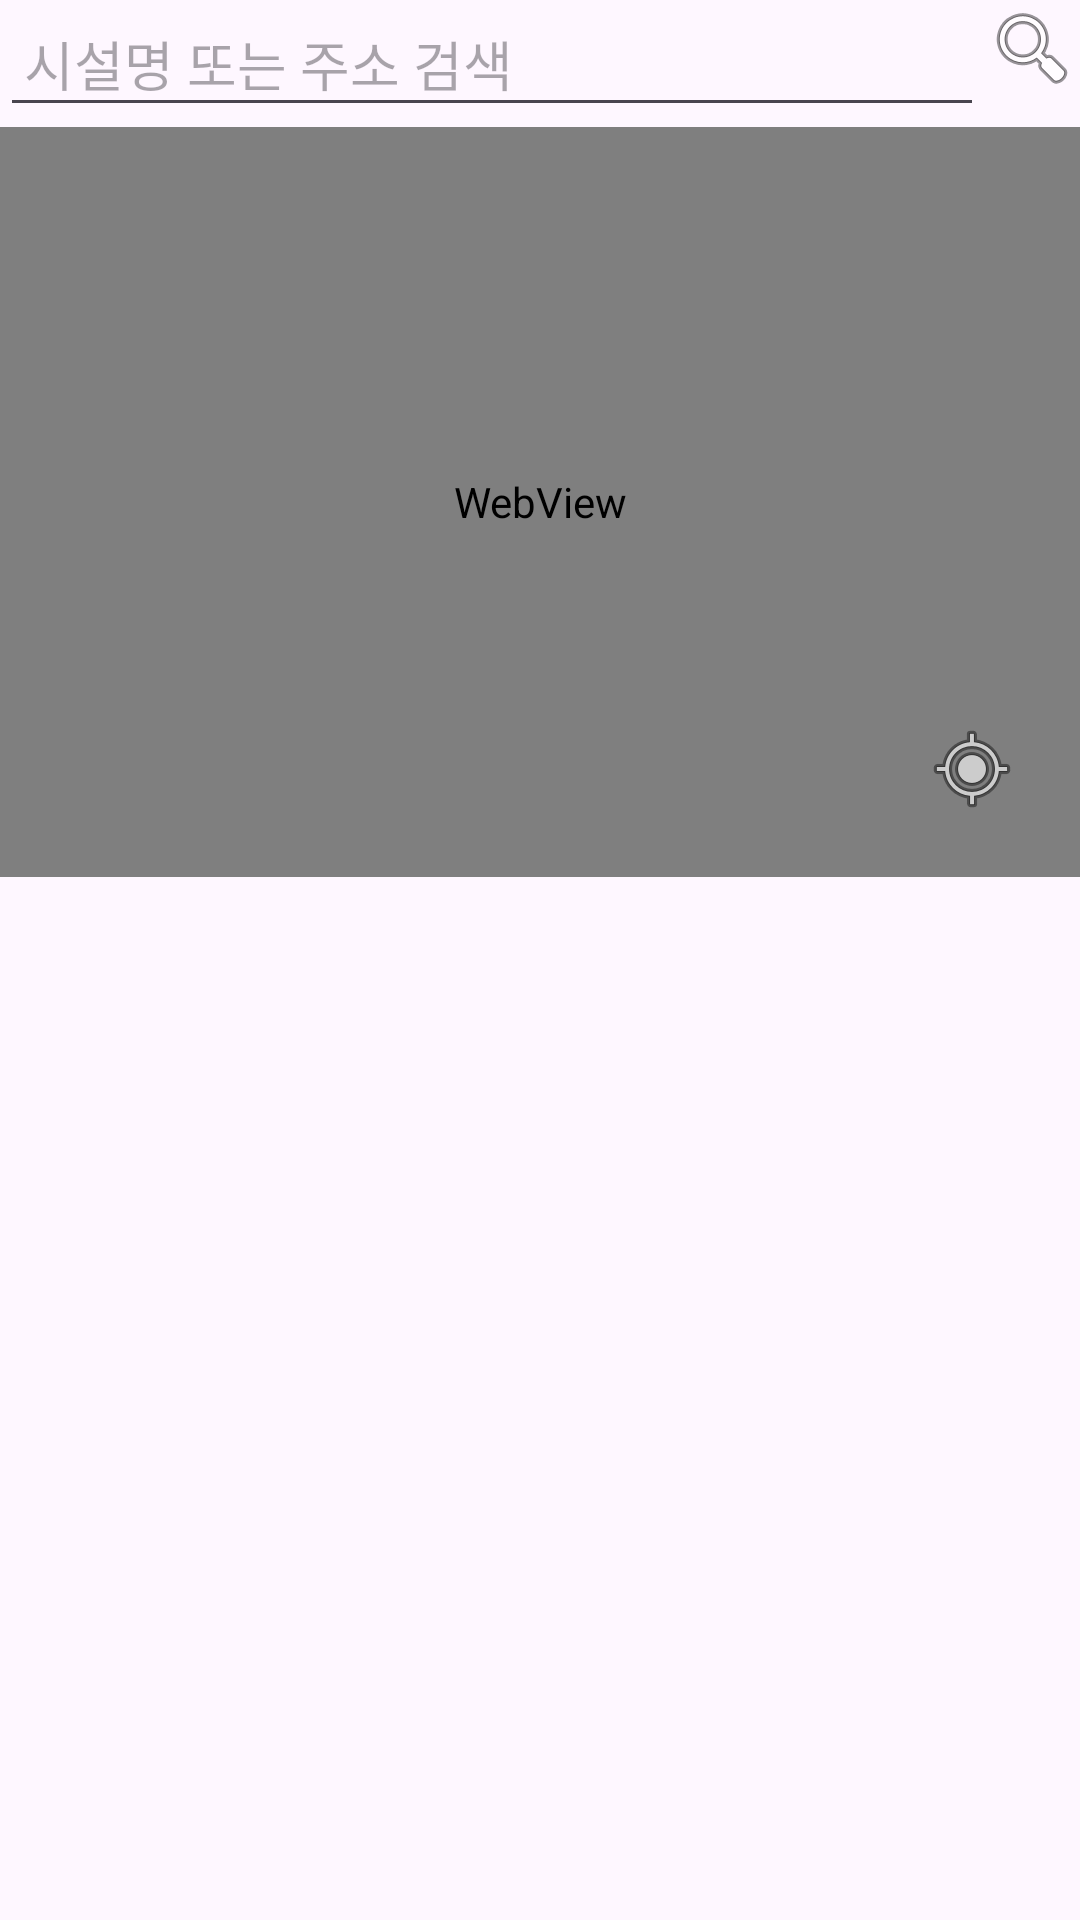

Icon click points for this 1080 x 1920 phone screenshot, format (x,y):
search: (1032,48)
현위치로 이동: (972,769)
